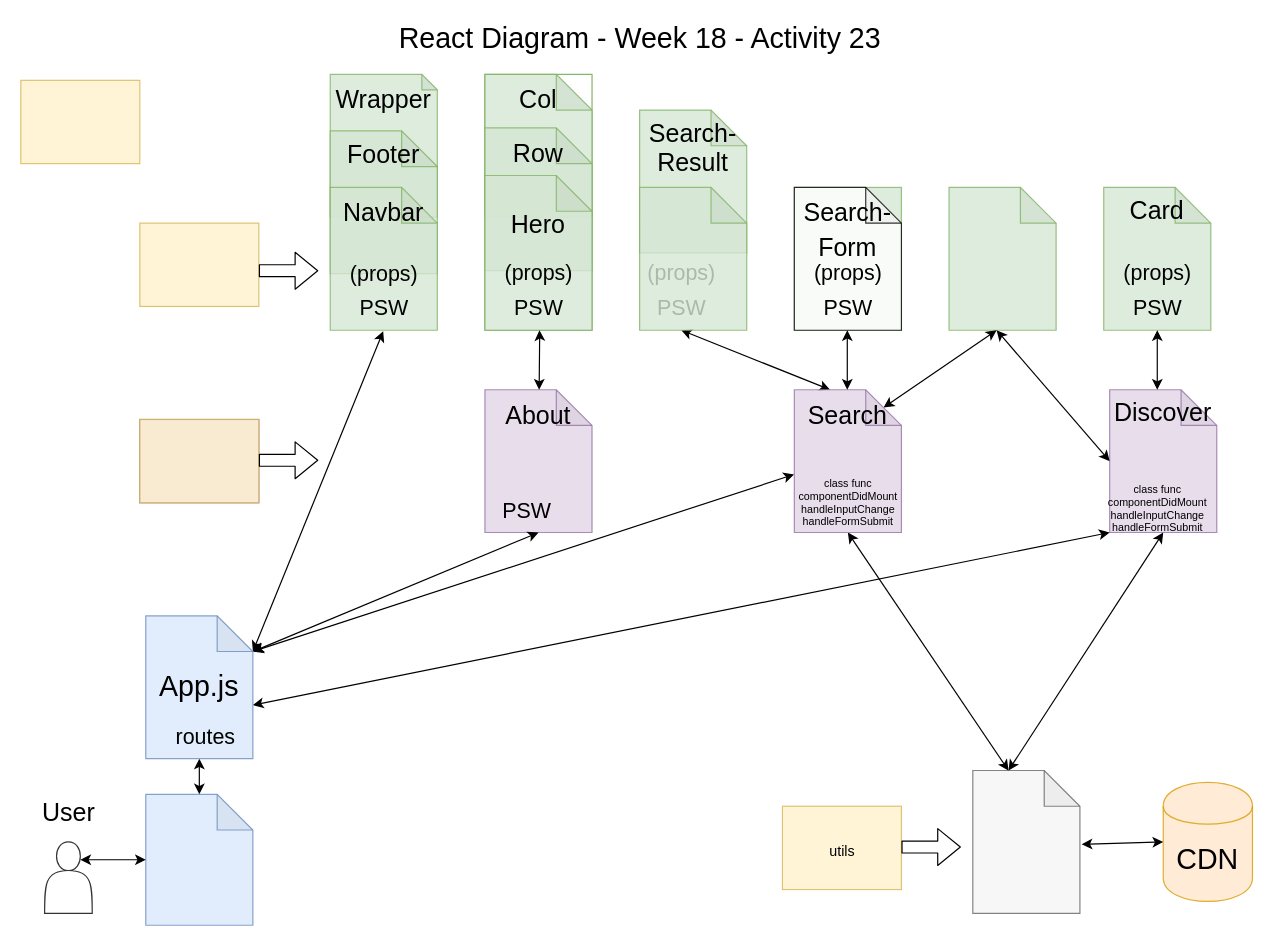
Some shapes in this 1273 by 946 pixel diagram are drawn without their labels. The centre of each missing label's shape, as x and y in pixels:
Alert: pixel 1002 258
API: pixel 1026 841
components: pixel 199 264
Con-tainer: pixel 692 258
index.js: pixel 199 859
pages: pixel 199 460
Pupster: pixel 80 121
